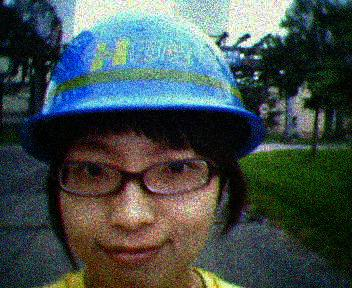helmet: (16, 13, 263, 288)
